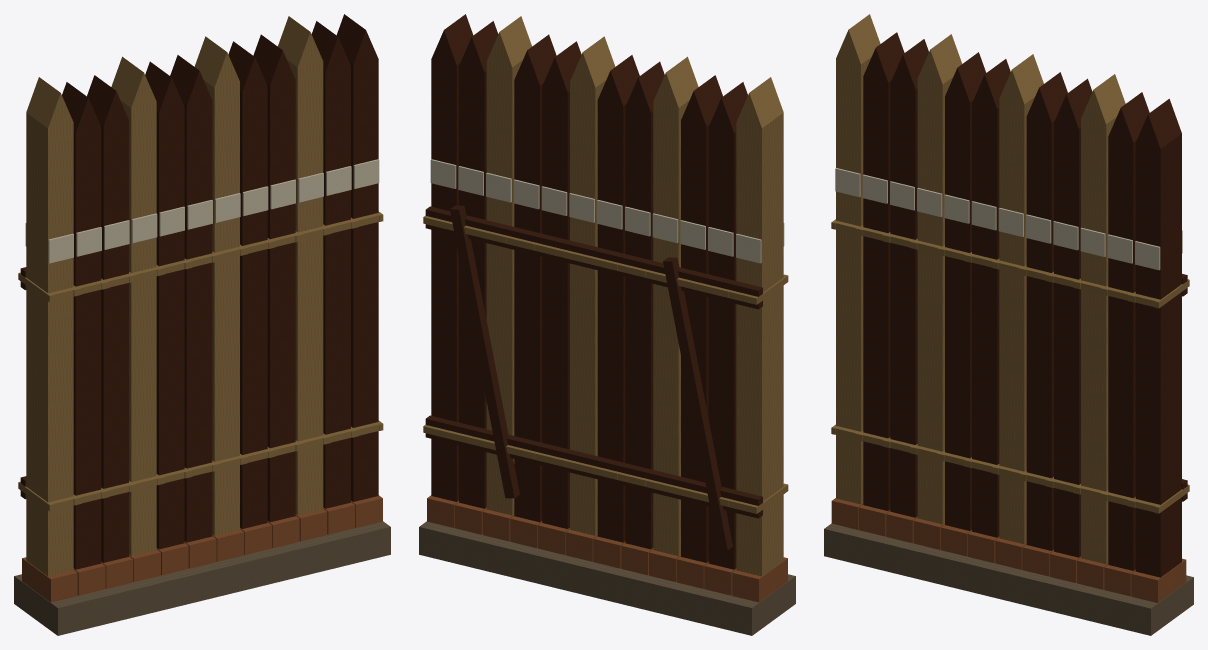
The model's file is Berber_Palisade_Age3_gapfill_3m.fbx.
The picture shows the model from 3 angles, left to right: view 1: azimuth 30°, elevation 25°; view 2: azimuth 150°, elevation 25°; view 3: azimuth 330°, elevation 25°; orthographic projection.
Parts seen in each view (by area): view 1: palm_split_post.035, palm_split_post.032, palm_split_post.038, palm_split_post.033, palm_split_post.029, palm_split_post.040, earth_seat.005, palm_split_post.034, palm_split_post.037, post_earth_socket.005, neutral_owner_band.005, front_lashing.005 (+1 smaller); view 2: palm_split_post.035, palm_split_post.038, palm_split_post.032, palm_split_post.029, palm_split_post.033, earth_seat.005, palm_split_post.037, palm_split_post.034, palm_split_post.040, continuous_rear_tie.005, post_earth_socket.005, back_diagonal_brace.005 (+3 smaller); view 3: palm_split_post.038, palm_split_post.032, palm_split_post.033, palm_split_post.035, earth_seat.005, palm_split_post.034, palm_split_post.029, palm_split_post.040, palm_split_post.037, post_earth_socket.005, neutral_owner_band.005, front_lashing.005 (+1 smaller).
Part boxes in pixels (box(x1,y1,x2,y2)): palm_split_post.035: box(145, 34, 295, 549); palm_split_post.032: box(62, 55, 212, 569); palm_split_post.038: box(228, 14, 378, 528); palm_split_post.033: box(87, 21, 350, 562); palm_split_post.029: box(26, 77, 73, 576); palm_split_post.040: box(278, 16, 323, 515); earth_seat.005: box(14, 521, 390, 635); palm_split_post.034: box(111, 56, 156, 556); palm_split_post.037: box(194, 36, 239, 535); post_earth_socket.005: box(22, 495, 382, 602); neutral_owner_band.005: box(25, 159, 379, 263); front_lashing.005: box(48, 212, 381, 509); palm_split_post.035: box(514, 34, 664, 549); palm_split_post.038: box(431, 14, 581, 528); palm_split_post.032: box(597, 55, 747, 569); palm_split_post.029: box(736, 77, 783, 576); palm_split_post.033: box(459, 21, 722, 562); earth_seat.005: box(419, 521, 795, 635); palm_split_post.037: box(570, 36, 615, 535); palm_split_post.034: box(653, 56, 698, 556); palm_split_post.040: box(486, 16, 531, 515); continuous_rear_tie.005: box(425, 206, 762, 518); post_earth_socket.005: box(427, 495, 787, 602); back_diagonal_brace.005: box(450, 205, 732, 550); palm_split_post.038: box(1026, 72, 1181, 577); palm_split_post.032: box(863, 32, 1010, 537); palm_split_post.033: box(890, 39, 1149, 570); palm_split_post.035: box(945, 52, 1092, 557); earth_seat.005: box(824, 523, 1193, 635); palm_split_post.034: box(917, 34, 962, 524); palm_split_post.029: box(836, 14, 880, 504); palm_split_post.040: box(1081, 74, 1125, 564); palm_split_post.037: box(999, 54, 1043, 544); post_earth_socket.005: box(831, 498, 1186, 602); neutral_owner_band.005: box(835, 168, 1182, 270); front_lashing.005: box(834, 221, 1157, 512).
Size of the model in its own units: 301 by 458 by 68.29.
Materials: 5 (5 with a texture image).
